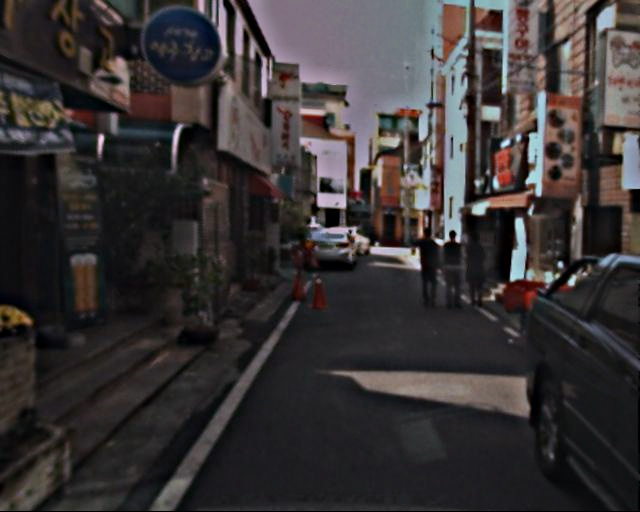person: (436, 228, 469, 308), (459, 231, 491, 310), (414, 231, 446, 308)
